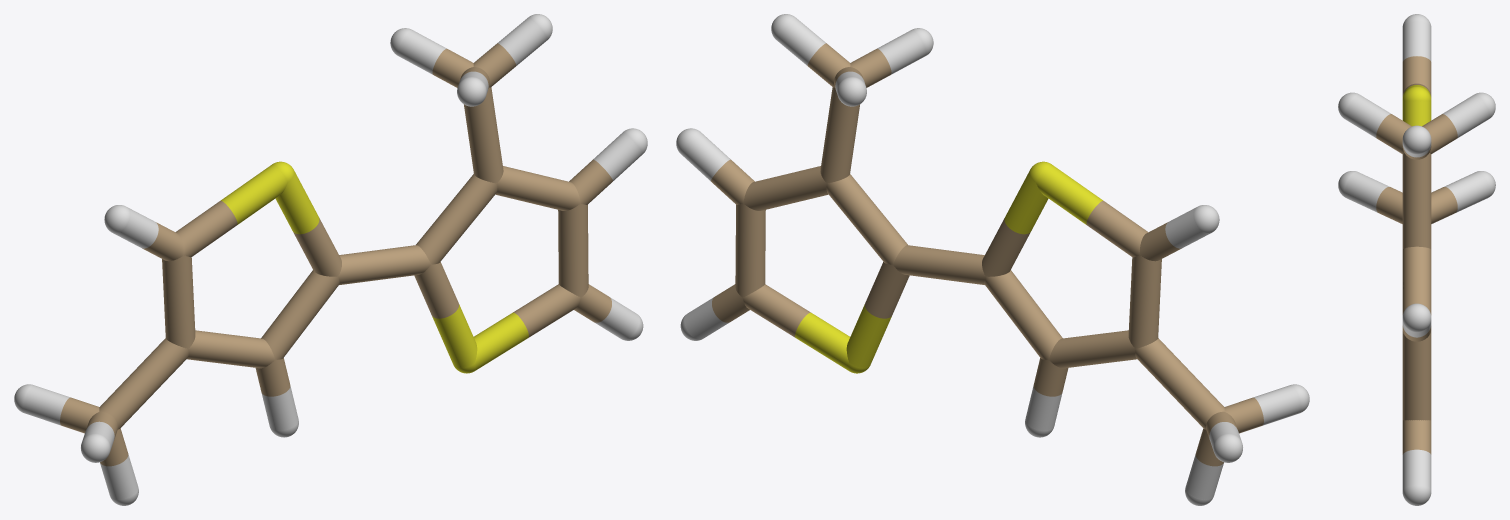
Rendered from molfile.glb.
3 views of the same model, side by side, from view 1: azimuth 30°, elevation 25°; view 2: azimuth 150°, elevation 25°; view 3: azimuth 270°, elevation 25° (orthographic). The views are drawn at different scales.
Visible parts, largest first — view 1: bonds, atoms; view 2: bonds, atoms; view 3: bonds, atoms.
Boxes of the visible parts, x1,y1,x2,y2 form: bonds: [22, 17, 642, 499]; atoms: [14, 14, 647, 505]; bonds: [681, 17, 1301, 499]; atoms: [676, 14, 1309, 505]; bonds: [1344, 21, 1489, 489]; atoms: [1338, 14, 1495, 505].
Size of the model in its own units: 9.23 by 5.74 by 2.19.
